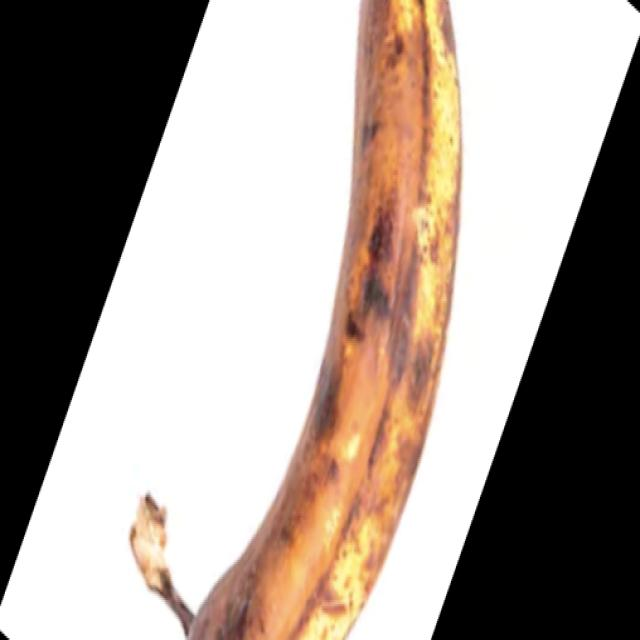overripe: (163, 0, 466, 640)
